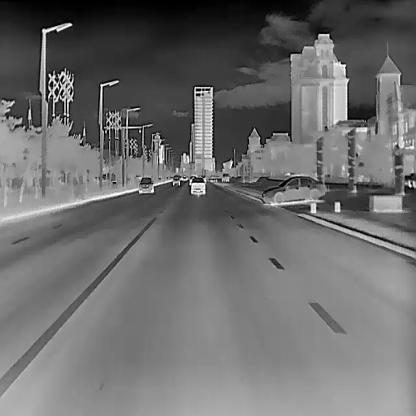car: (262, 173, 326, 206), (137, 176, 154, 192), (190, 177, 206, 194), (171, 175, 179, 185), (221, 173, 229, 182)
